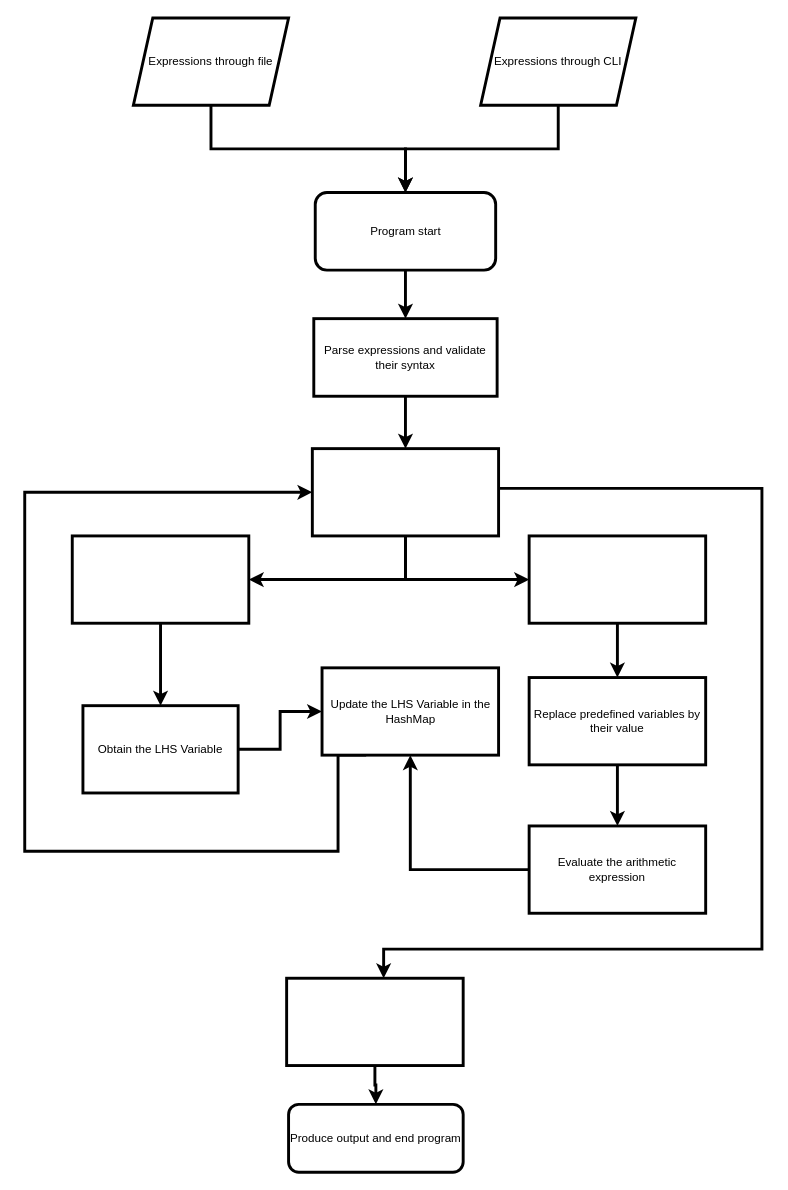
Some shapes in this 788 by 1190 pixel diagram are drawn without their labels. The shapes that lost their labels are listed below. From the top down, each one's centre as x and y in pixels, then its label:
At (x=405, y=492): "Objectify each expression and parse it".
At (x=160, y=579): "Create LHS".
At (x=617, y=579): "Create RHS".
At (x=374, y=1021): "Receive null expression".
